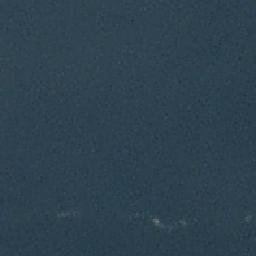debris: (150, 216, 163, 227), (57, 211, 77, 217), (176, 220, 189, 227), (244, 212, 253, 222)
